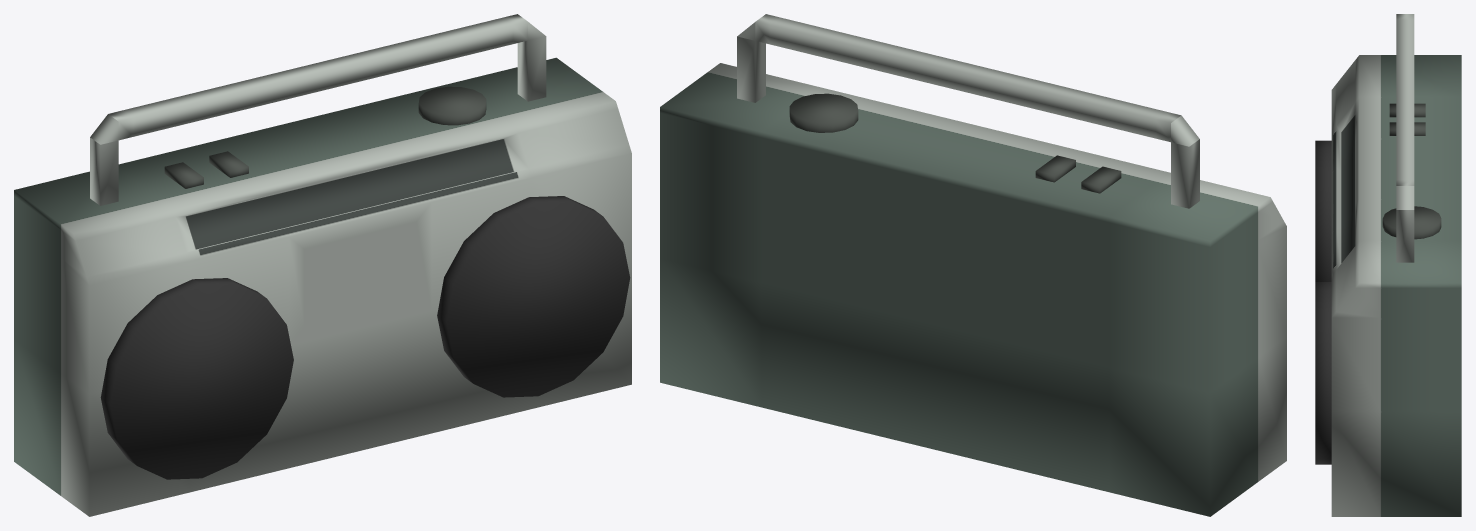
Rendered from boombox.glb.
3 renders of one model, left to right at view 1: azimuth 30°, elevation 25°; view 2: azimuth 150°, elevation 25°; view 3: azimuth 270°, elevation 25°, orthographic. The views are drawn at different scales.
Parts seen in each view (by area): view 1: body, speaker1, speaker2, handle, knob; view 2: body, handle, knob, b1, b2; view 3: body, handle, speaker2, speaker1, knob, b2, b1.
Boxes of the visible parts, bbox=[...] form: body: bbox=[14, 57, 631, 516]; speaker1: bbox=[100, 278, 293, 479]; speaker2: bbox=[437, 196, 630, 397]; handle: bbox=[90, 14, 546, 205]; knob: bbox=[418, 86, 486, 125]; body: bbox=[660, 63, 1286, 516]; handle: bbox=[737, 14, 1199, 208]; knob: bbox=[789, 93, 858, 132]; b1: bbox=[1035, 155, 1075, 182]; b2: bbox=[1081, 166, 1121, 193]; body: bbox=[1331, 55, 1461, 516]; handle: bbox=[1396, 14, 1414, 262]; speaker2: bbox=[1315, 282, 1331, 464]; speaker1: bbox=[1315, 140, 1331, 281]; knob: bbox=[1382, 206, 1441, 239]; b2: bbox=[1389, 103, 1425, 117]; b1: bbox=[1389, 122, 1425, 135].
Size of the model in its own units: 45.97 by 28.49 by 12.49.
Materials: 1 (1 with a texture image).
